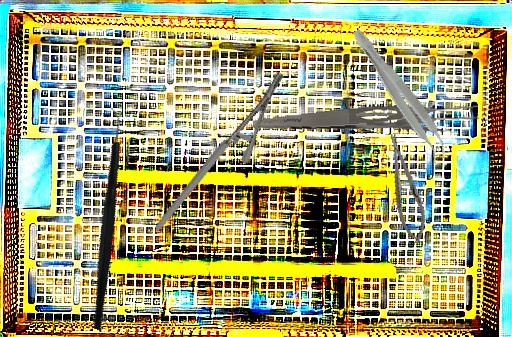Chopper: (16, 105, 192, 332)
Dressing Forceps: (252, 99, 480, 140)
Needle Holder: (119, 69, 318, 232), (379, 130, 433, 246)
Pusher: (311, 113, 465, 139)
Tissue Forceps: (343, 25, 455, 165)
